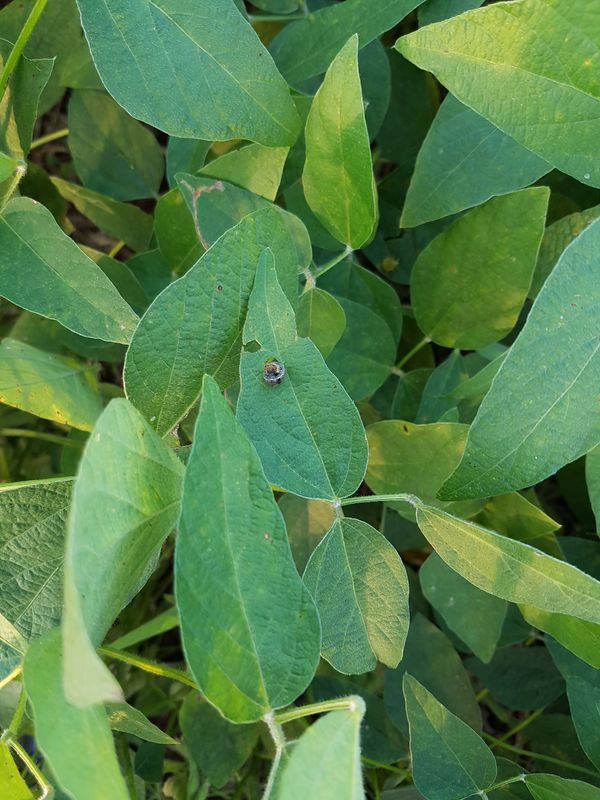Spodoptera_albula: (254, 353, 293, 391)
